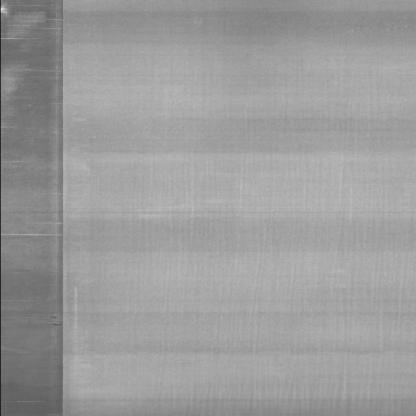welding_line: (37, 2, 75, 416)
